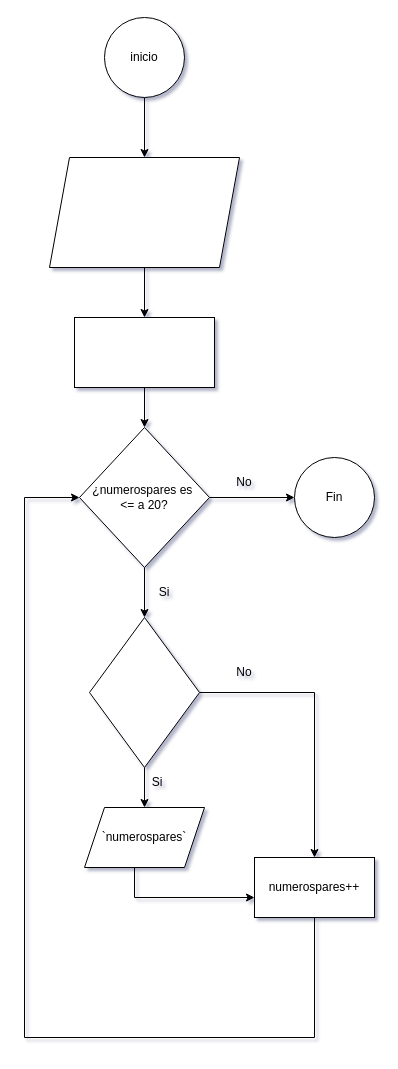
Image size: 398x1069. Some labels were removed from this diagram. The centre of each missing label's shape, as x and y in pixels:
"Numeros pares del 1 al 20": (144,212)
let numerospares = 2: (144,352)
¿numerospares % 2 === 1 ?: (144,692)
